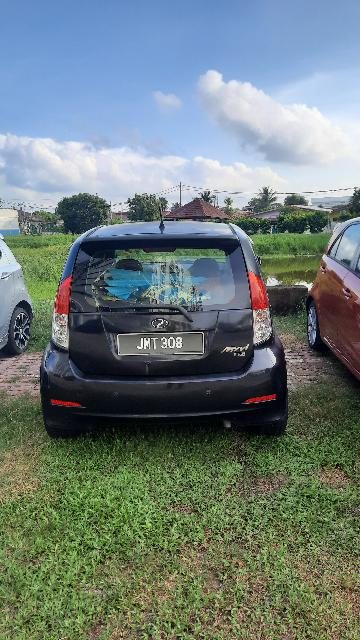License_Plate: (115, 326, 216, 370)
car: (43, 218, 287, 437)
